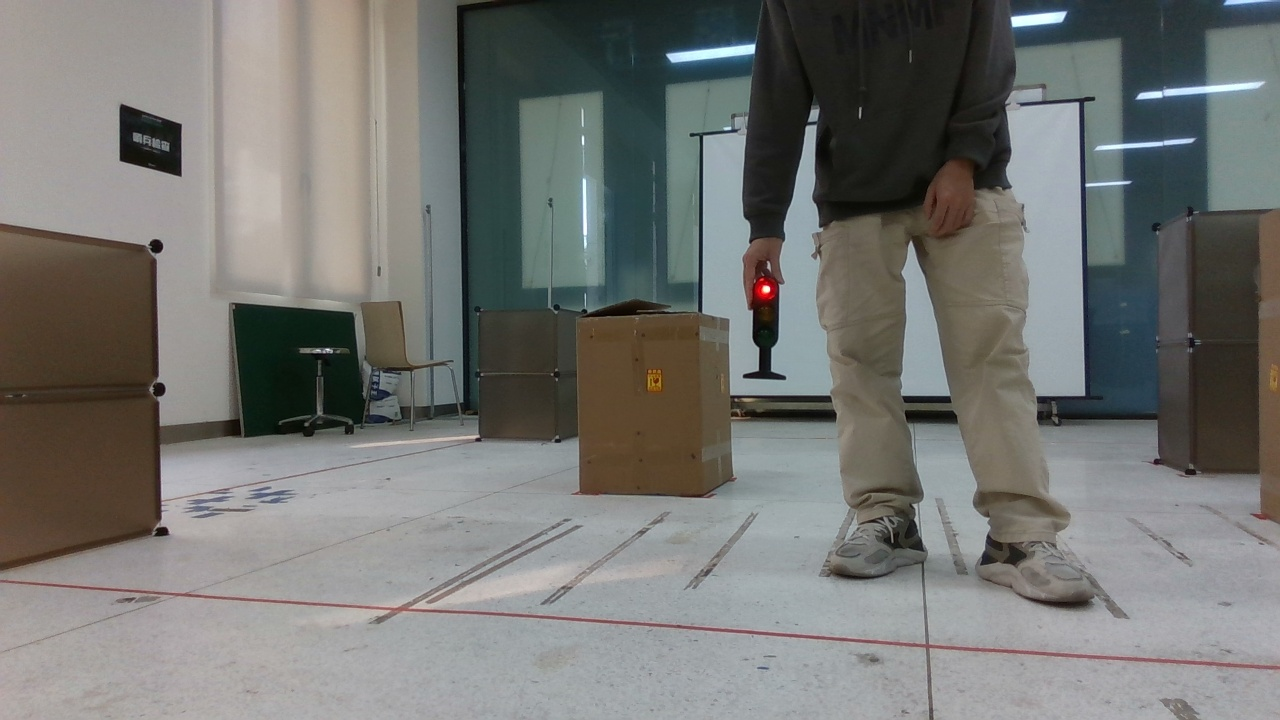red_light: (736, 252, 793, 386)
